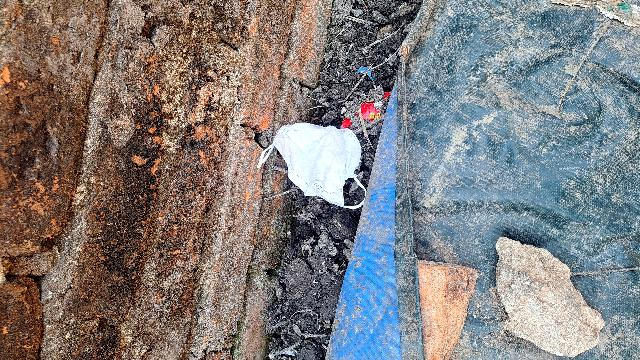mask: (279, 120, 363, 204)
